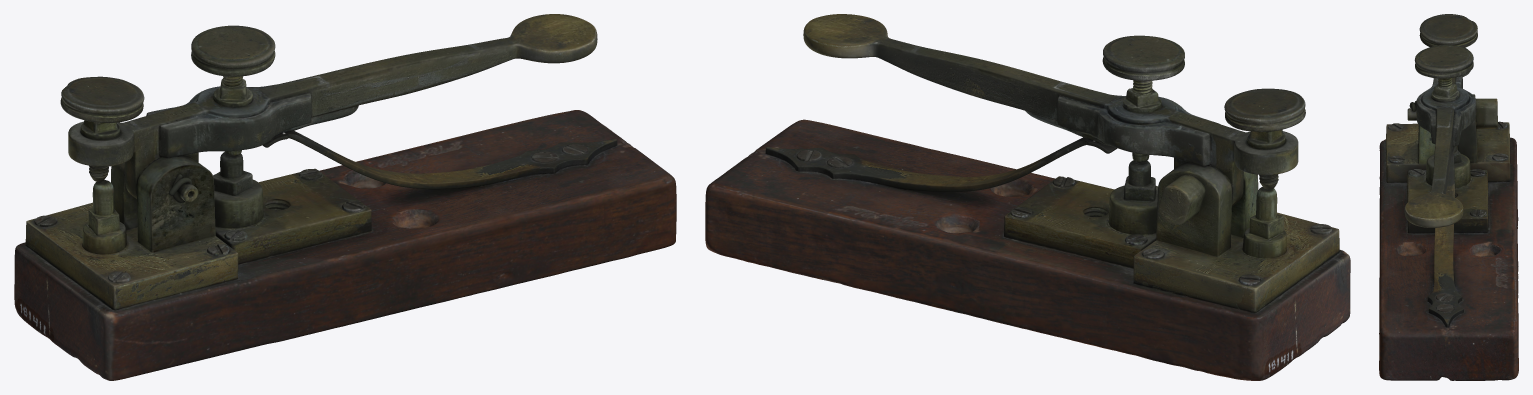
File: morse-vail-key-4k-ece8213900.glb
3 renders of one model, left to right at view 1: azimuth 30°, elevation 25°; view 2: azimuth 150°, elevation 25°; view 3: azimuth 270°, elevation 25°, orthographic. The views are drawn at different scales.
Size of the model in its own units: 169 by 76.55 by 50.84.
1 material, 1 textured.
